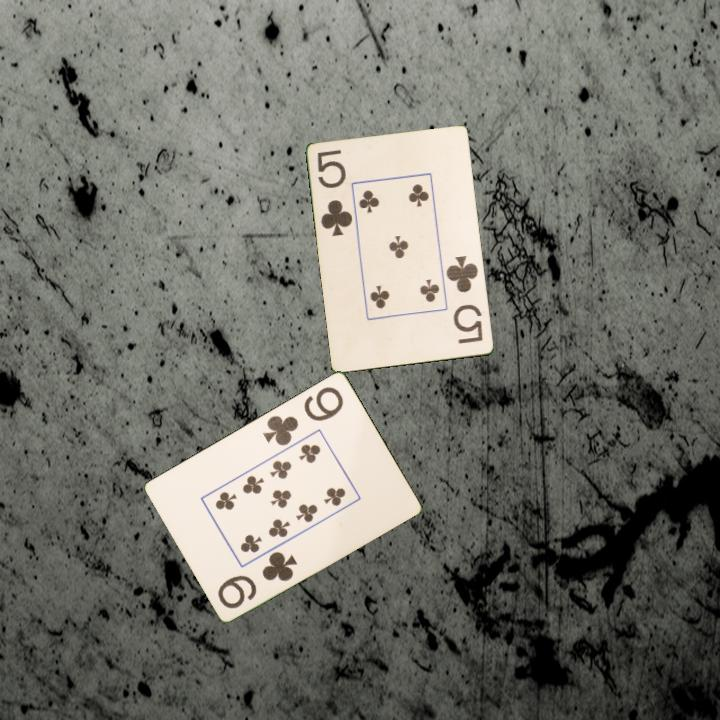5c: (443, 252, 486, 347), (314, 146, 356, 240)
9c: (259, 382, 347, 449), (214, 547, 301, 611)
